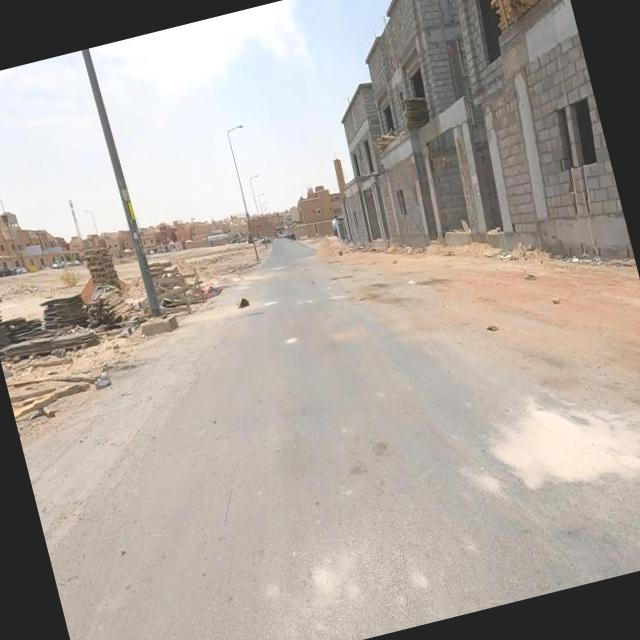debris: (0, 285, 186, 492), (100, 196, 276, 378), (0, 269, 134, 405), (56, 236, 181, 381), (202, 262, 284, 351), (536, 215, 616, 301), (460, 215, 544, 294), (379, 246, 444, 324), (461, 294, 533, 362), (376, 210, 440, 285), (510, 251, 558, 298), (536, 276, 578, 326)
